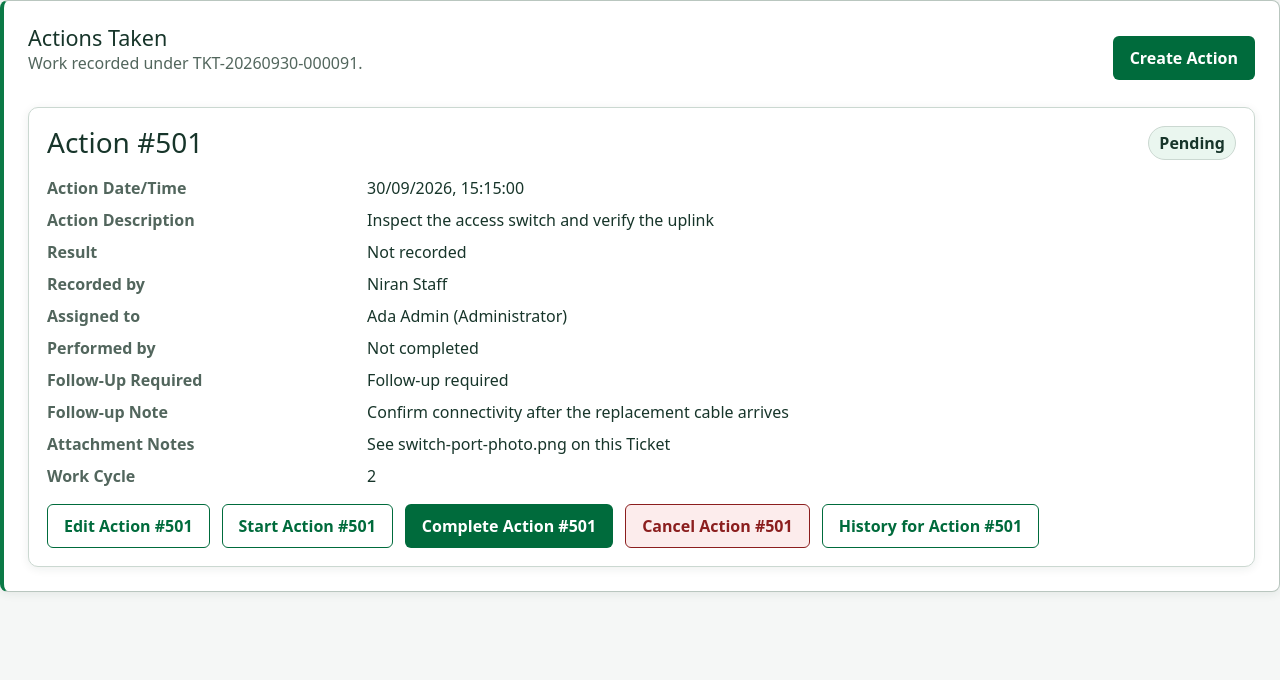
Test: UI-01 Staff Actions Taken › uses backend-projected capabilities and both optimistic versions for edit/reassignment
The image size is (1280, 680).
Click the button "Edit Action #501".
click(128, 526)  # box 47,504 -> 210,548
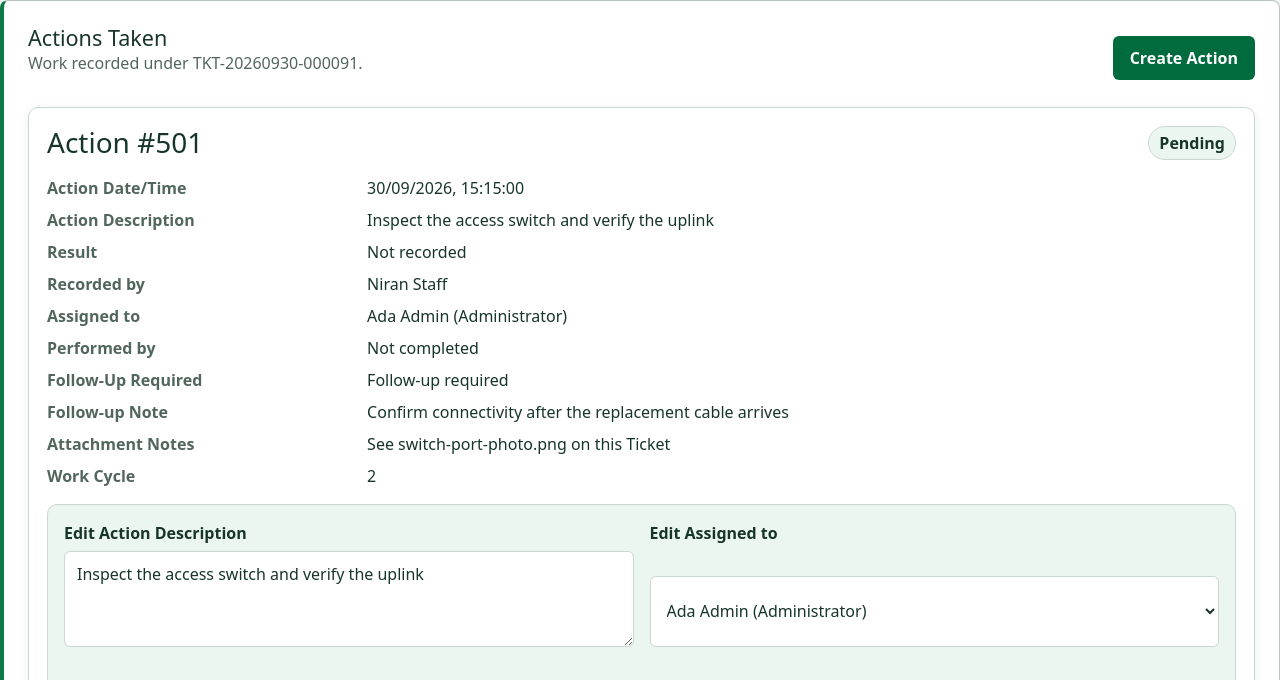
Replace the text in the text box labelled "Edit Action Description" with "Inspect the uplink and replace the damaged cable" at [349, 599], box 64,551 -> 634,647
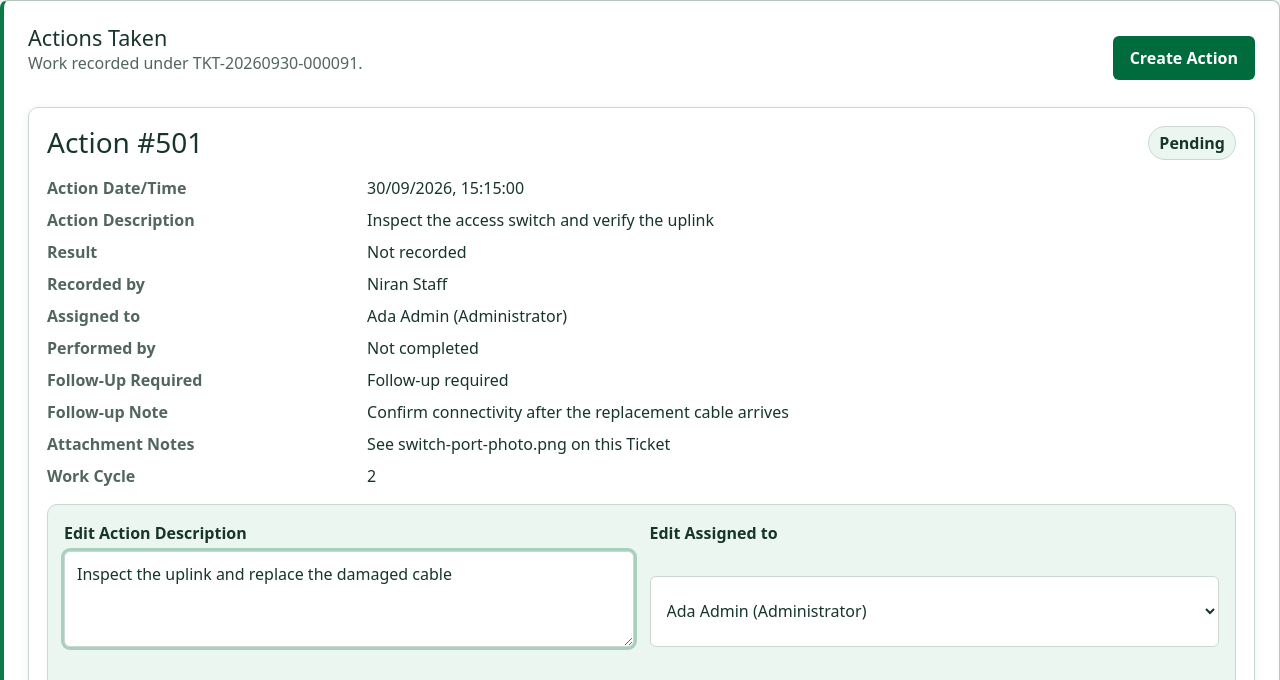
Select "Niran Staff (IT Staff)" in the dropdown labelled "Edit Assigned to" at [934, 611], box 650,576 -> 1219,647
(page scrolled)
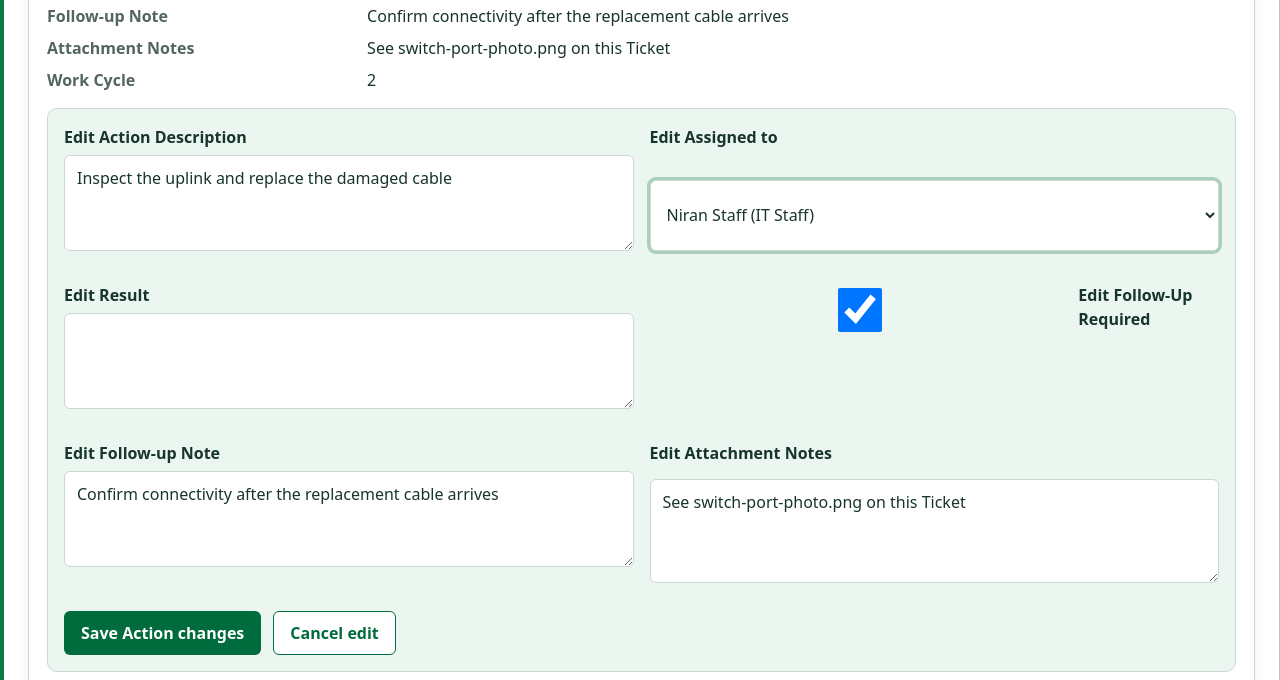
Click the button "Save Action changes".
click(163, 633)  # box 64,611 -> 261,655
(page scrolled)
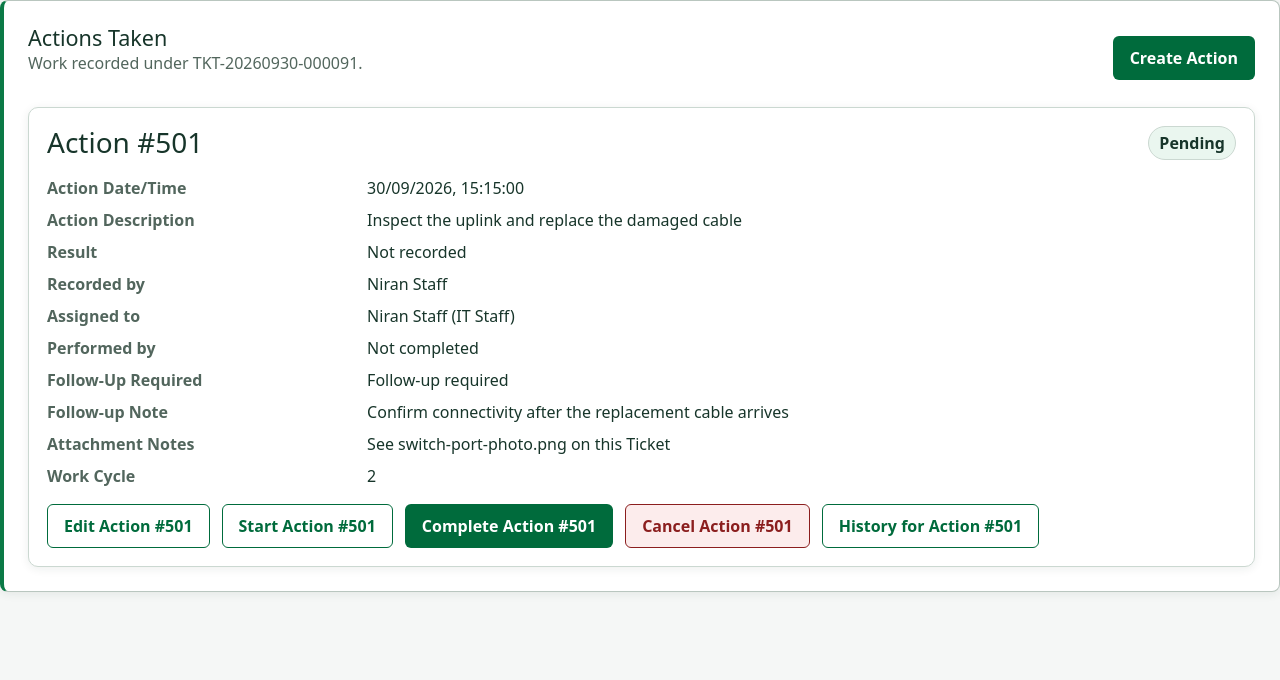
Expected: the button "Start Action #501" is shown, 222,504 -> 393,548
Result: the text "Inspect the uplink and replace the damaged cable" is shown at 367,209 -> 742,231
